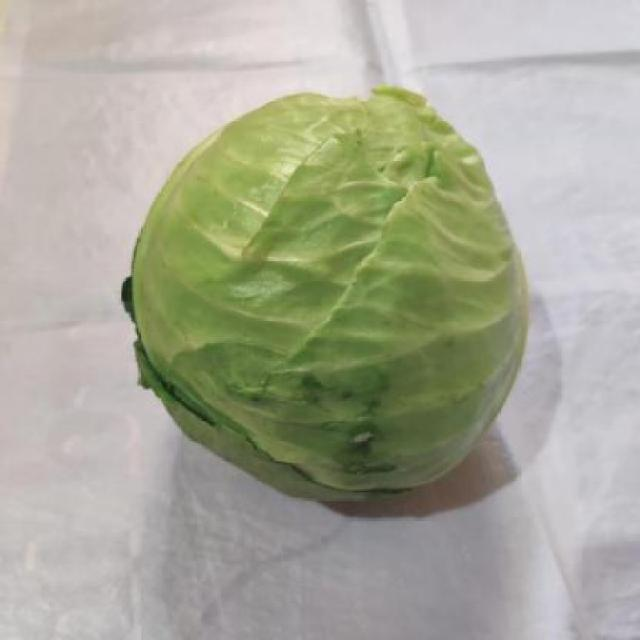Cabbage: (82, 41, 560, 548)
